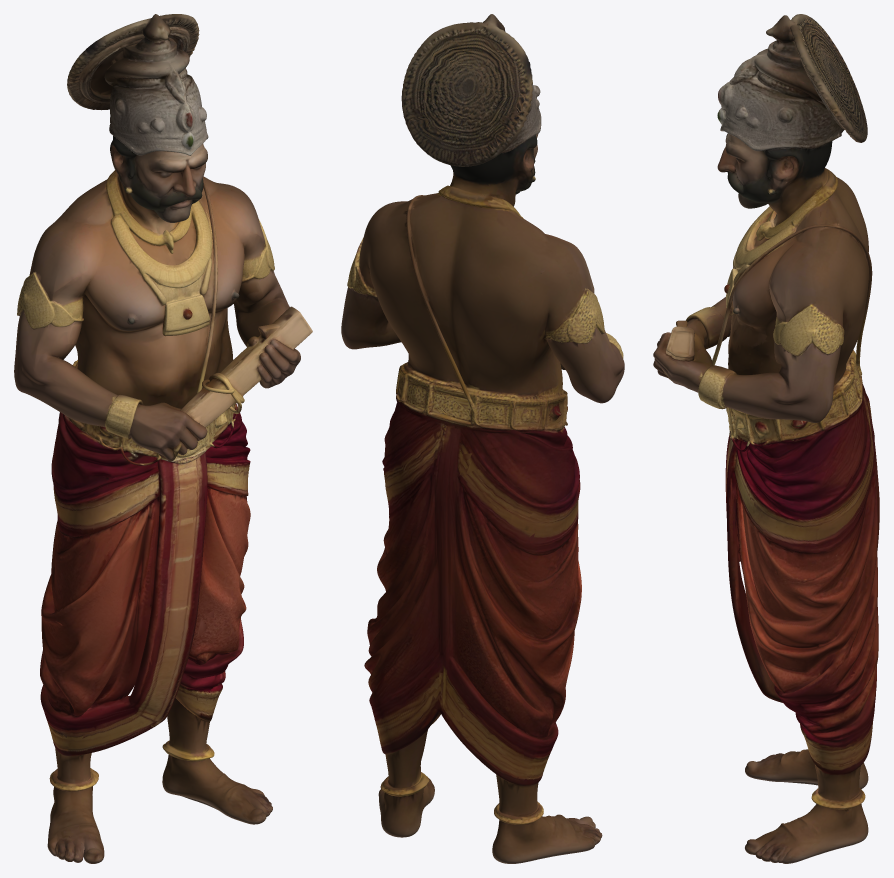
The model's file is nedunjeliyan_i.glb.
The picture shows the model from 3 angles, left to right: view 1: azimuth 30°, elevation 25°; view 2: azimuth 150°, elevation 25°; view 3: azimuth 270°, elevation 25°; orthographic projection. The views are drawn at different scales.
Visible parts, largest first — view 1: node_0; view 2: node_0; view 3: node_0.
Boxes of the visible parts, x1=… form: node_0: x1=14, y1=14, x2=312, y2=863; node_0: x1=341, y1=14, x2=624, y2=863; node_0: x1=653, y1=14, x2=879, y2=863.
Size of the model in its own units: 0.3957 by 1.16 by 0.2988.
1 material, 1 textured.
